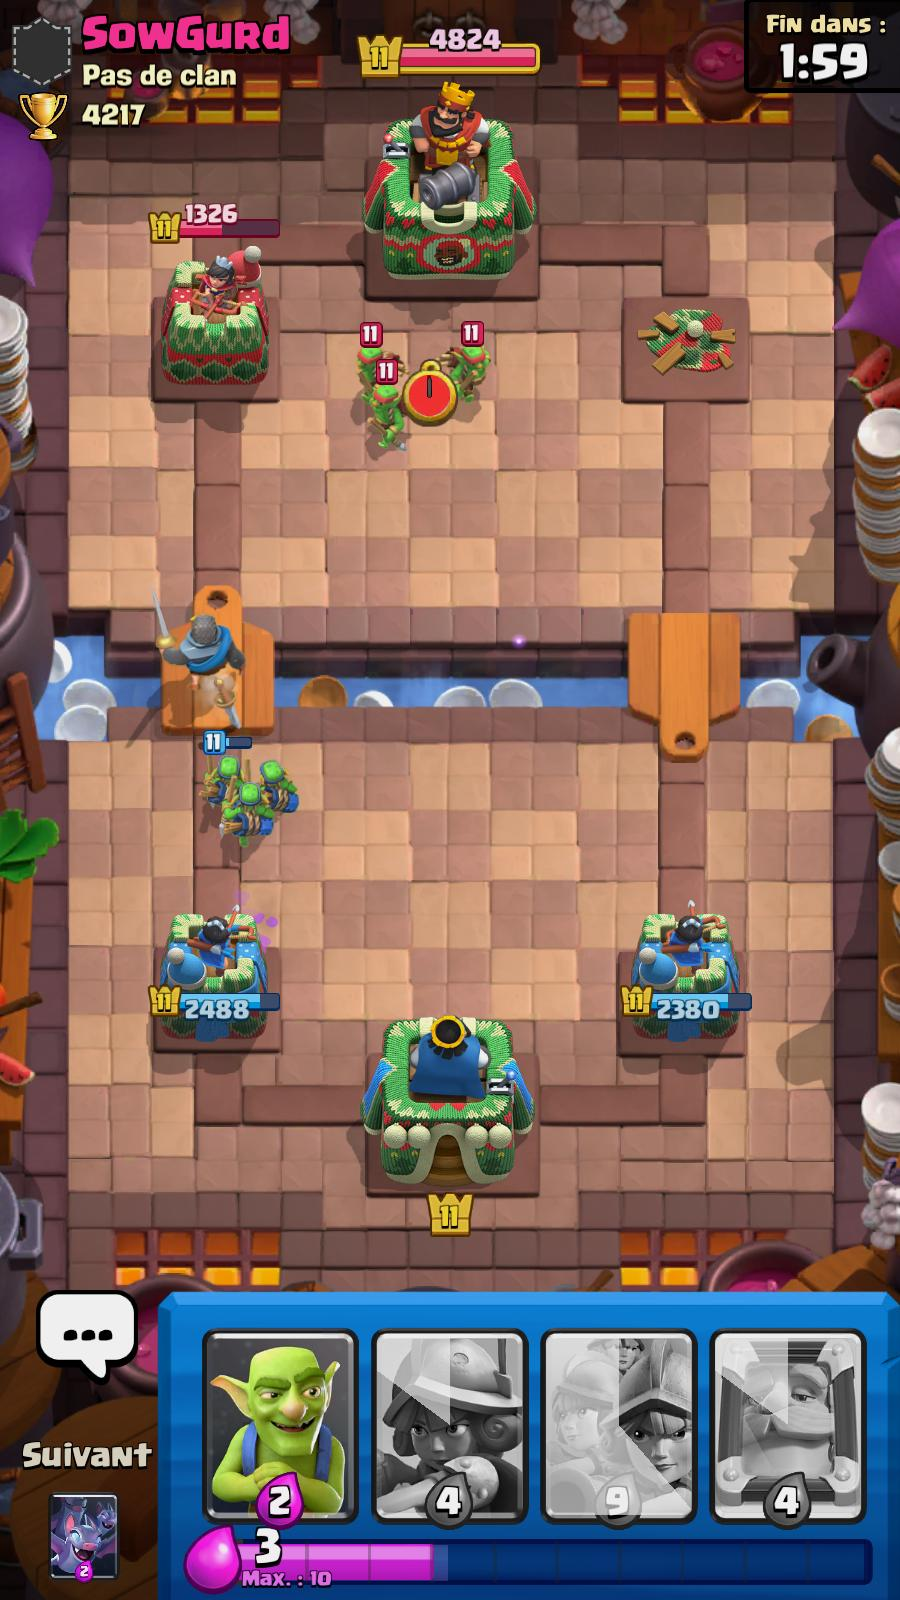chevalier: (151, 587, 247, 691)
gobelin_lances: (201, 733, 260, 812), (220, 779, 274, 848), (368, 362, 409, 449), (454, 321, 493, 404), (357, 323, 404, 387), (258, 758, 304, 822)
